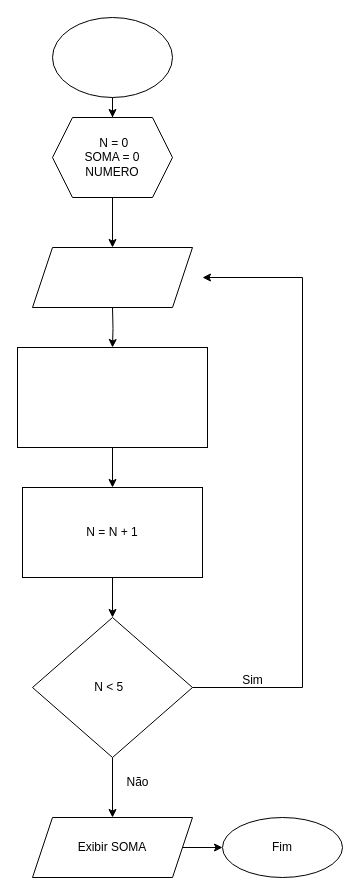
Some shapes in this 360 by 895 pixel diagram are drawn without their labels. The shapes that lost their labels are listed below. From the top down, each one's box as (x1, y1, x2, y2) in pixels, then its label:
(52, 16, 172, 98): Inicio
(32, 246, 192, 308): Inserir NUMERO
(16, 346, 208, 448): SOMA = SOMA + NUMERO
